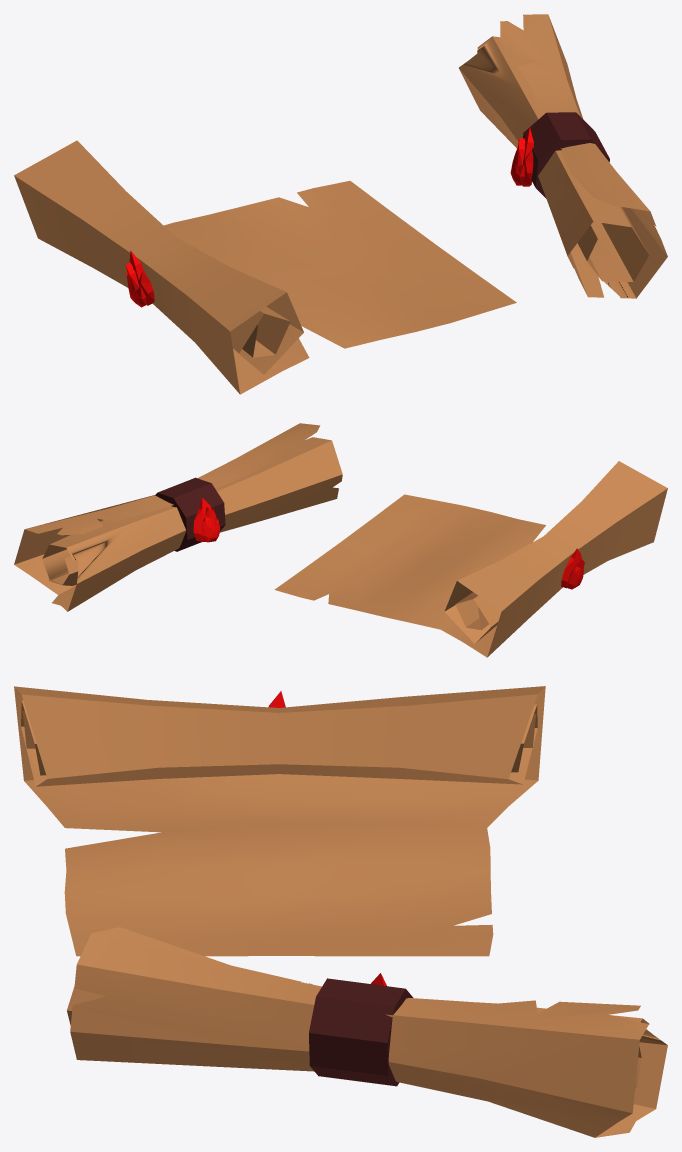
The model's file is cuộn phù phép nguyên tố lửa.fbx.
3 renders of one model, top to bottom at view 1: azimuth 30°, elevation 25°; view 2: azimuth 150°, elevation 25°; view 3: azimuth 270°, elevation 25°, orthographic. The views are drawn at different scales.
Parts seen in each view (by area): view 1: Plane_3, Plane_1, Cylinder, obj1, obj1_1; view 2: Plane_3, Plane_1, Cylinder, obj1_1, obj1; view 3: Plane_3, Plane_1, Cylinder.
Part boxes in pixels (bbox=[...]): Plane_3: bbox=[14, 140, 516, 394]; Plane_1: bbox=[459, 14, 667, 298]; Cylinder: bbox=[523, 112, 609, 198]; obj1: bbox=[125, 250, 154, 307]; obj1_1: bbox=[510, 127, 533, 186]; Plane_3: bbox=[274, 461, 667, 657]; Plane_1: bbox=[14, 423, 342, 611]; Cylinder: bbox=[155, 477, 225, 551]; obj1_1: bbox=[193, 498, 220, 542]; obj1: bbox=[561, 548, 584, 589]; Plane_3: bbox=[14, 686, 545, 956]; Plane_1: bbox=[67, 927, 667, 1137]; Cylinder: bbox=[309, 978, 413, 1086].
Size of the model in its own units: 486 by 95.3 by 377.
